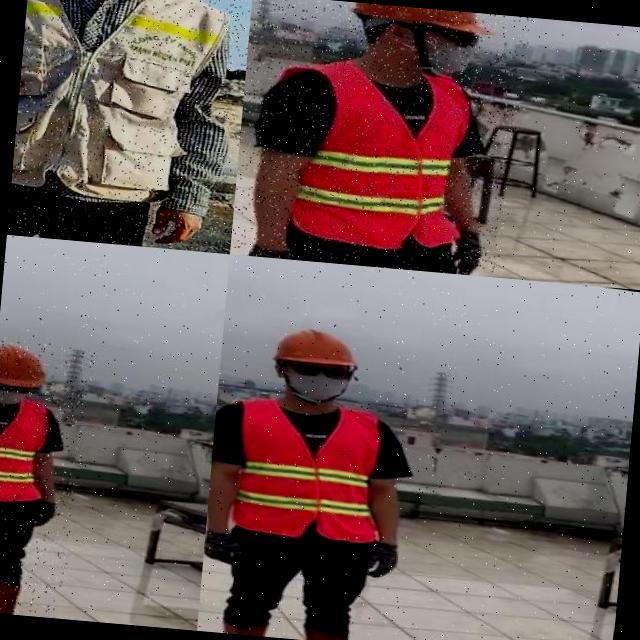boots: (0, 575, 38, 616)
helmet: (338, 0, 498, 44), (270, 320, 363, 372), (0, 339, 53, 392)
vest: (9, 0, 245, 219), (289, 53, 480, 258), (226, 395, 392, 545), (0, 394, 56, 507)
